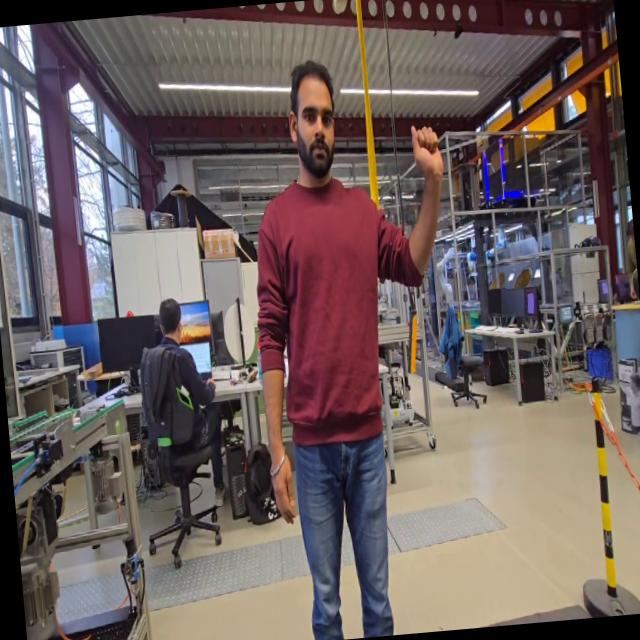closed_fist: (405, 115, 448, 188)
